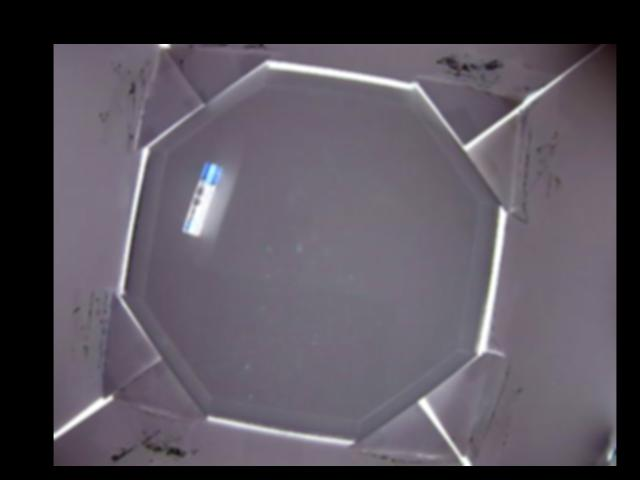Battery: (182, 162, 220, 234)
